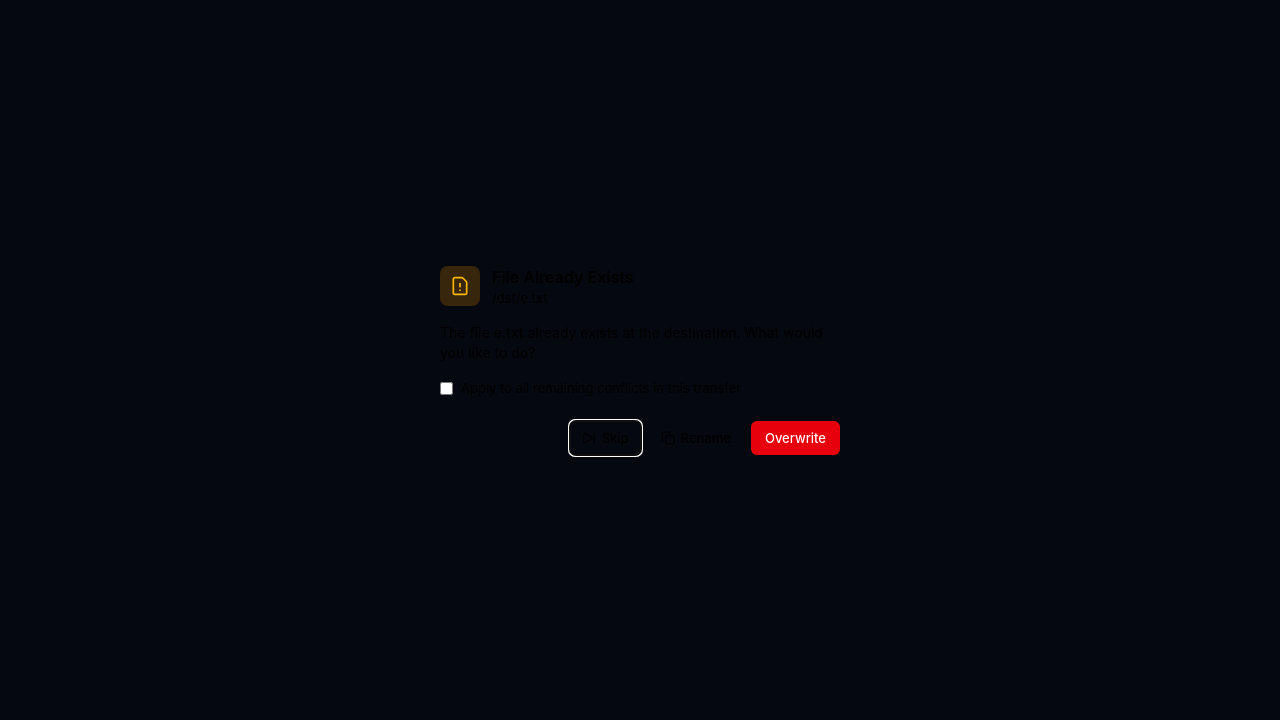
Test case: TransferConflictModal Component › resets the "apply to all" checkbox between prompts
Click the checkbox with test id "transfer-conflict-apply-all" at (446, 388), box [440, 382, 453, 394]
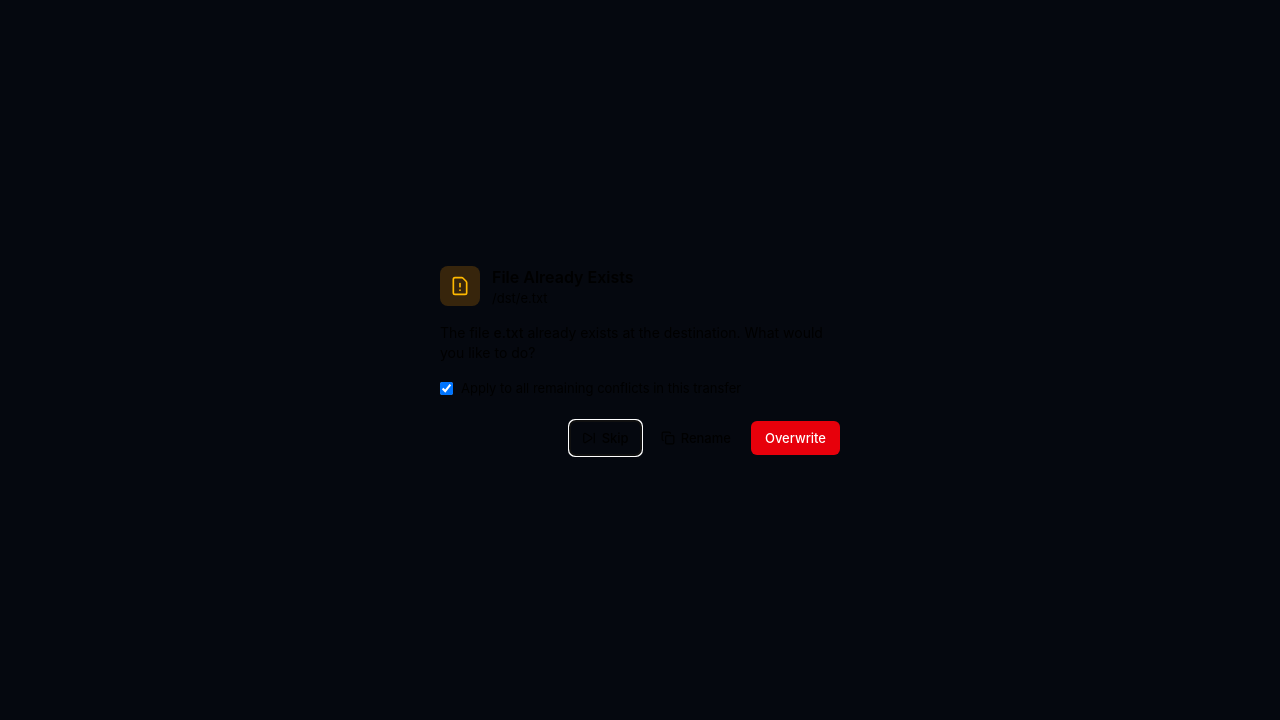
Now the checkbox with test id "transfer-conflict-apply-all" is checked, box [440, 382, 453, 394]
Click the button with test id "transfer-conflict-skip" at (605, 438), box [570, 421, 641, 455]
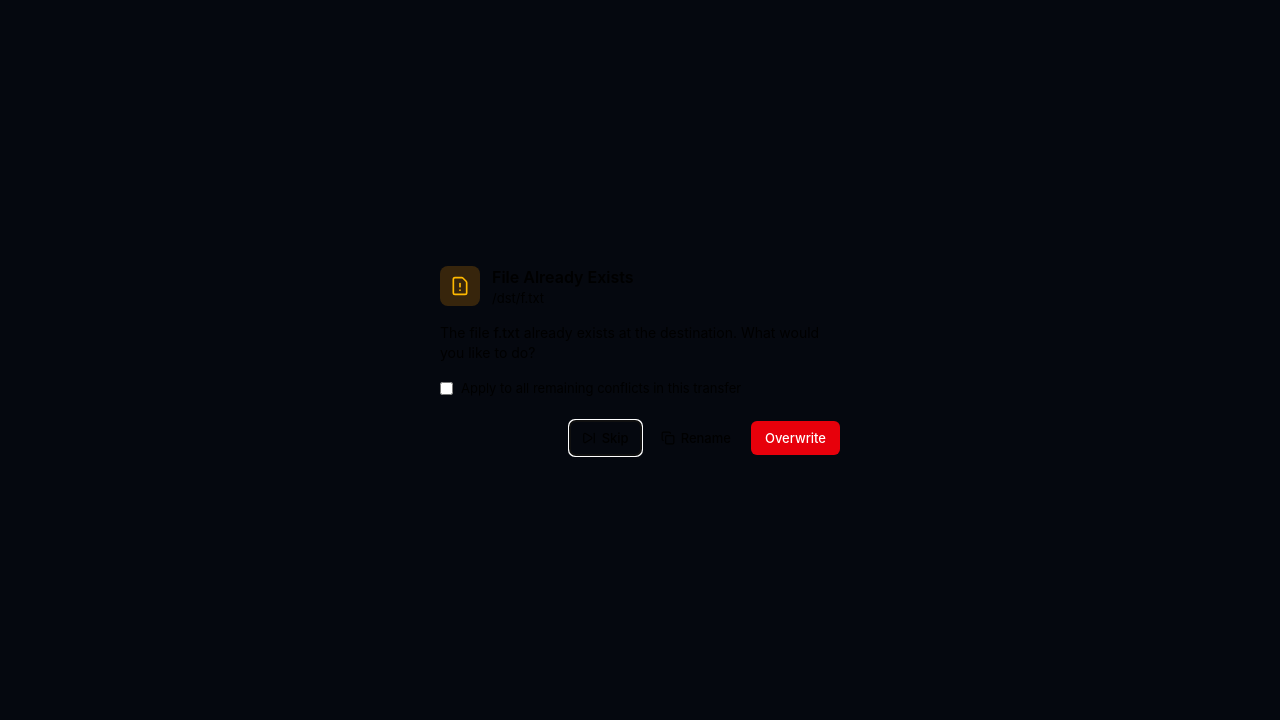
Now the checkbox with test id "transfer-conflict-apply-all" is not checked, box [440, 382, 453, 394]
